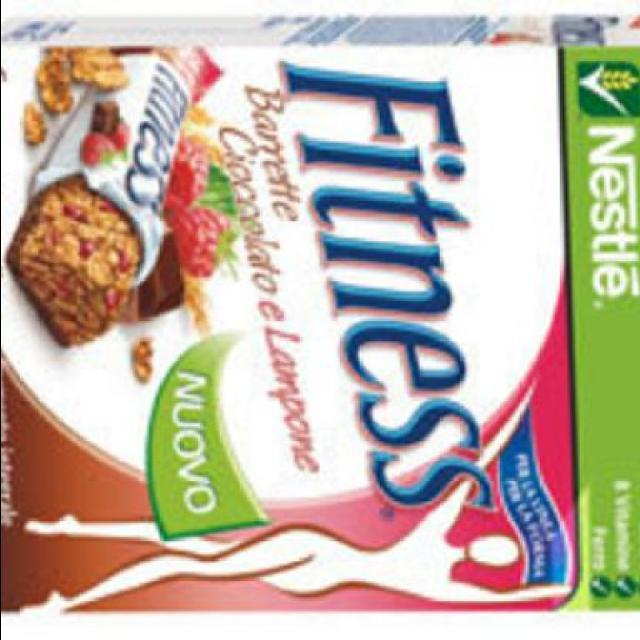Cereal bar: (1, 21, 619, 614)
